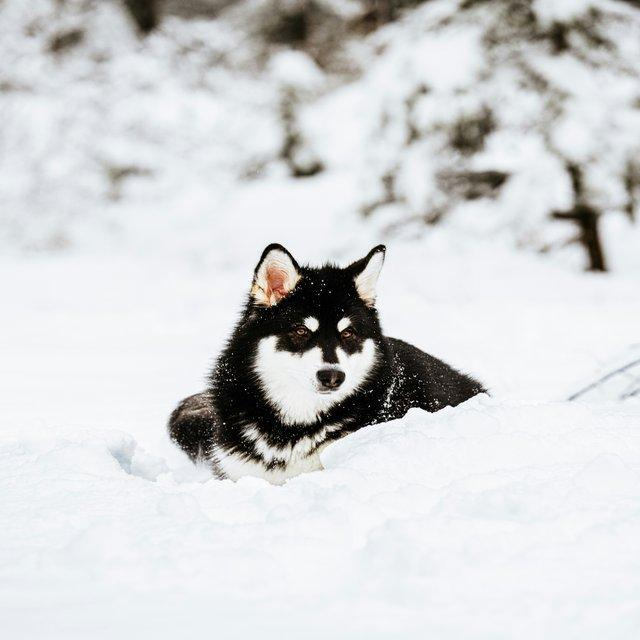husky: (166, 241, 489, 485)
